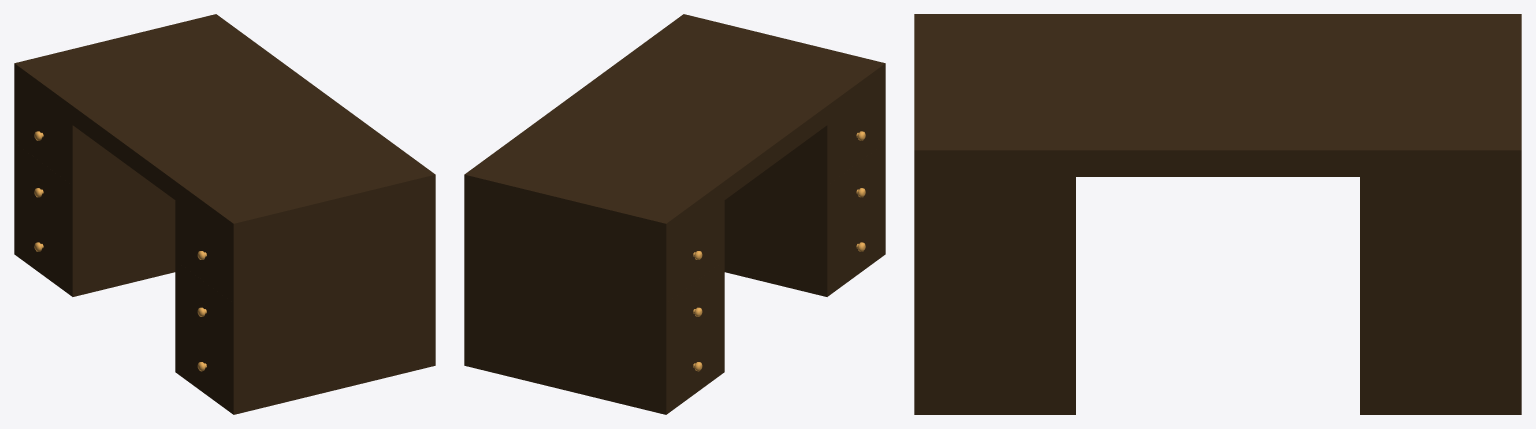
Rendered from desk.fbx.
3 views of the same model, side by side, from view 1: azimuth 30°, elevation 25°; view 2: azimuth 150°, elevation 25°; view 3: azimuth 270°, elevation 25° (orthographic). The views are drawn at different scales.
Visible parts, largest first — view 1: mesa, cajon-r3, cajon-l3, cajon-l1, cajon-r1, cajon-l2, cajon-r2; view 2: mesa, cajon-l3, cajon-r3, cajon-l1, cajon-r1, cajon-l2, cajon-r2; view 3: mesa.
Part boxes in pixels (x1,y1,x2,y2): mesa: [14, 14, 435, 414]; cajon-r3: [177, 316, 231, 409]; cajon-l3: [16, 198, 70, 291]; cajon-l1: [16, 88, 70, 179]; cajon-r1: [177, 205, 231, 297]; cajon-l2: [16, 144, 70, 233]; cajon-r2: [177, 262, 231, 351]; mesa: [464, 14, 885, 414]; cajon-l3: [668, 316, 722, 409]; cajon-r3: [829, 198, 883, 291]; cajon-l1: [668, 205, 722, 297]; cajon-r1: [829, 88, 883, 179]; cajon-l2: [668, 262, 722, 351]; cajon-r2: [829, 144, 883, 233]; mesa: [914, 14, 1521, 414].
Size of the model in its own units: 85.75 by 156 by 75.01.
